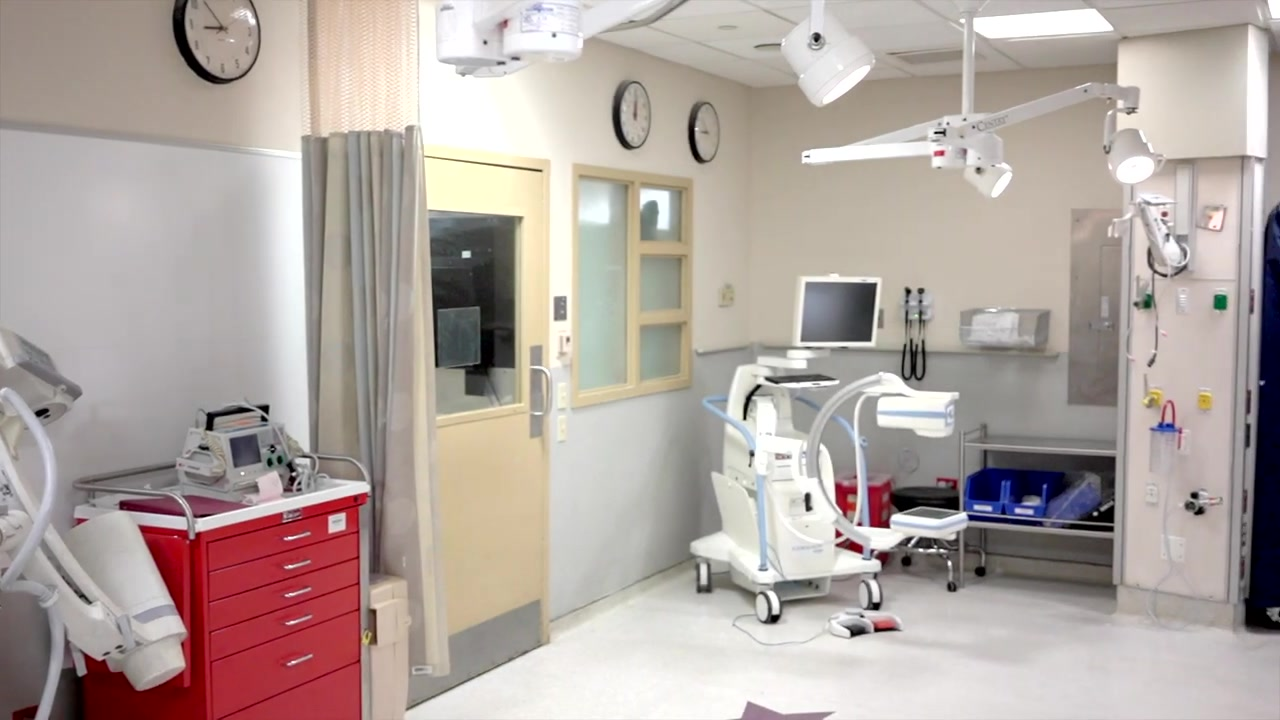bedside_monitor: (788, 271, 878, 349)
chair: (888, 484, 987, 593)
curtain: (293, 118, 456, 677)
door_handle: (528, 361, 556, 419)
handle: (282, 652, 315, 668), (279, 530, 315, 544), (285, 613, 313, 628), (281, 587, 314, 598), (282, 559, 311, 571)
light_switch: (559, 383, 570, 409), (558, 416, 569, 442)
medical_drawer: (64, 450, 368, 720)
surgical_light: (776, 27, 875, 108), (1107, 131, 1160, 188), (964, 152, 1011, 201)
waste_bin: (835, 471, 895, 563)
